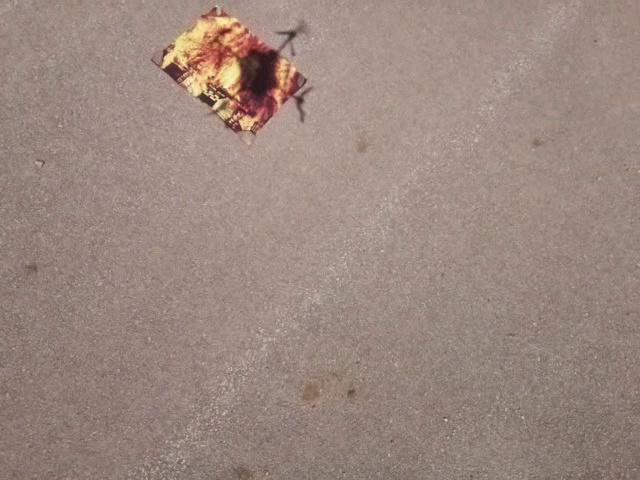fire-poster: (149, 4, 309, 147)
